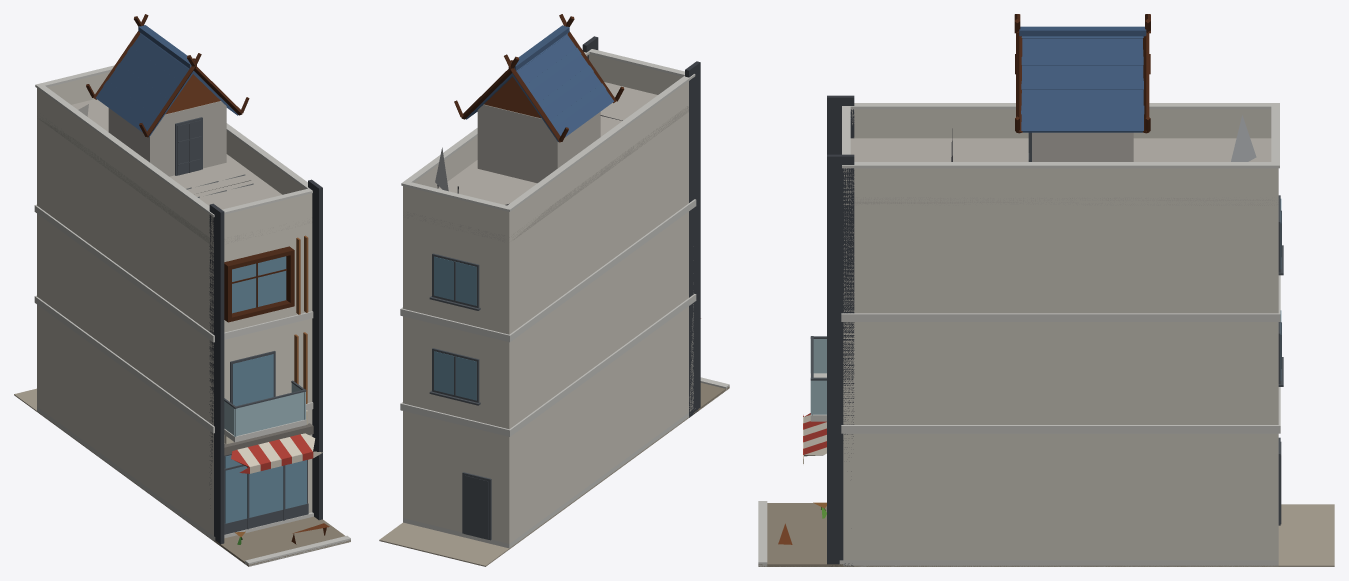
Rendered from bay1_mid2.glb.
3 renders of one model, left to right at view 1: azimuth 30°, elevation 25°; view 2: azimuth 150°, elevation 25°; view 3: azimuth 270°, elevation 25°, orthographic. The views are drawn at different scales.
Visible parts, largest first — view 1: body; view 2: body; view 3: body.
Part boxes in pixels (box(x1,y1,x2,y2)): body: box(14, 14, 350, 566); body: box(379, 14, 729, 566); body: box(758, 14, 1334, 566).
Size of the model in its own units: 4.32 by 16.2 by 15.9.
